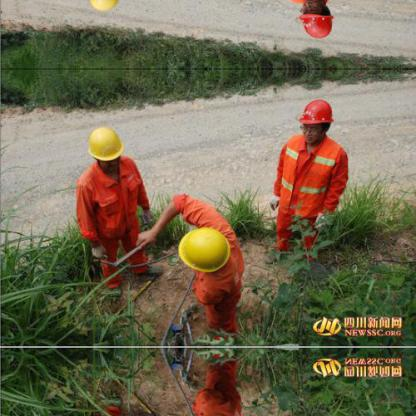helmet: (174, 223, 234, 275), (84, 121, 126, 171), (295, 93, 335, 144), (295, 0, 336, 42), (84, 0, 127, 14)
person: (156, 193, 241, 340), (73, 124, 152, 282), (273, 98, 348, 258), (155, 351, 241, 414), (272, 0, 348, 37)
